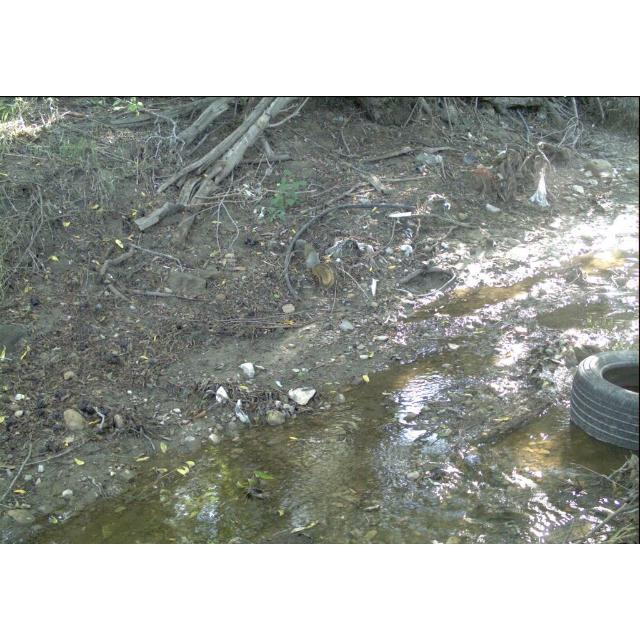animals: (300, 236, 338, 292)
